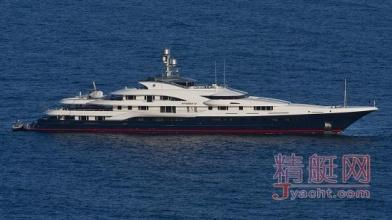yacht: (16, 43, 381, 135)
